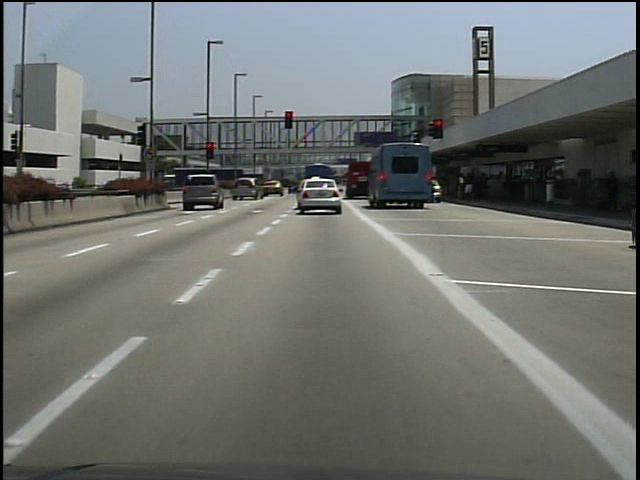person: (602, 167, 621, 221)
